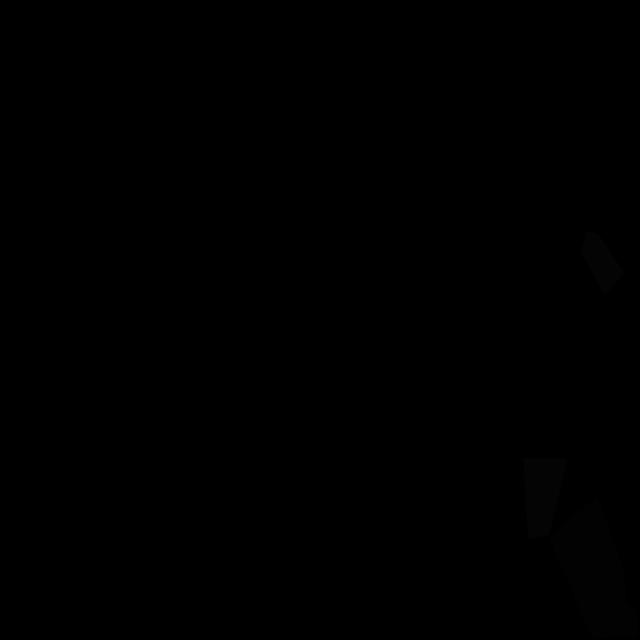cardboard: (549, 497, 638, 639)
soft_plastic: (523, 458, 568, 539), (581, 231, 624, 295)
